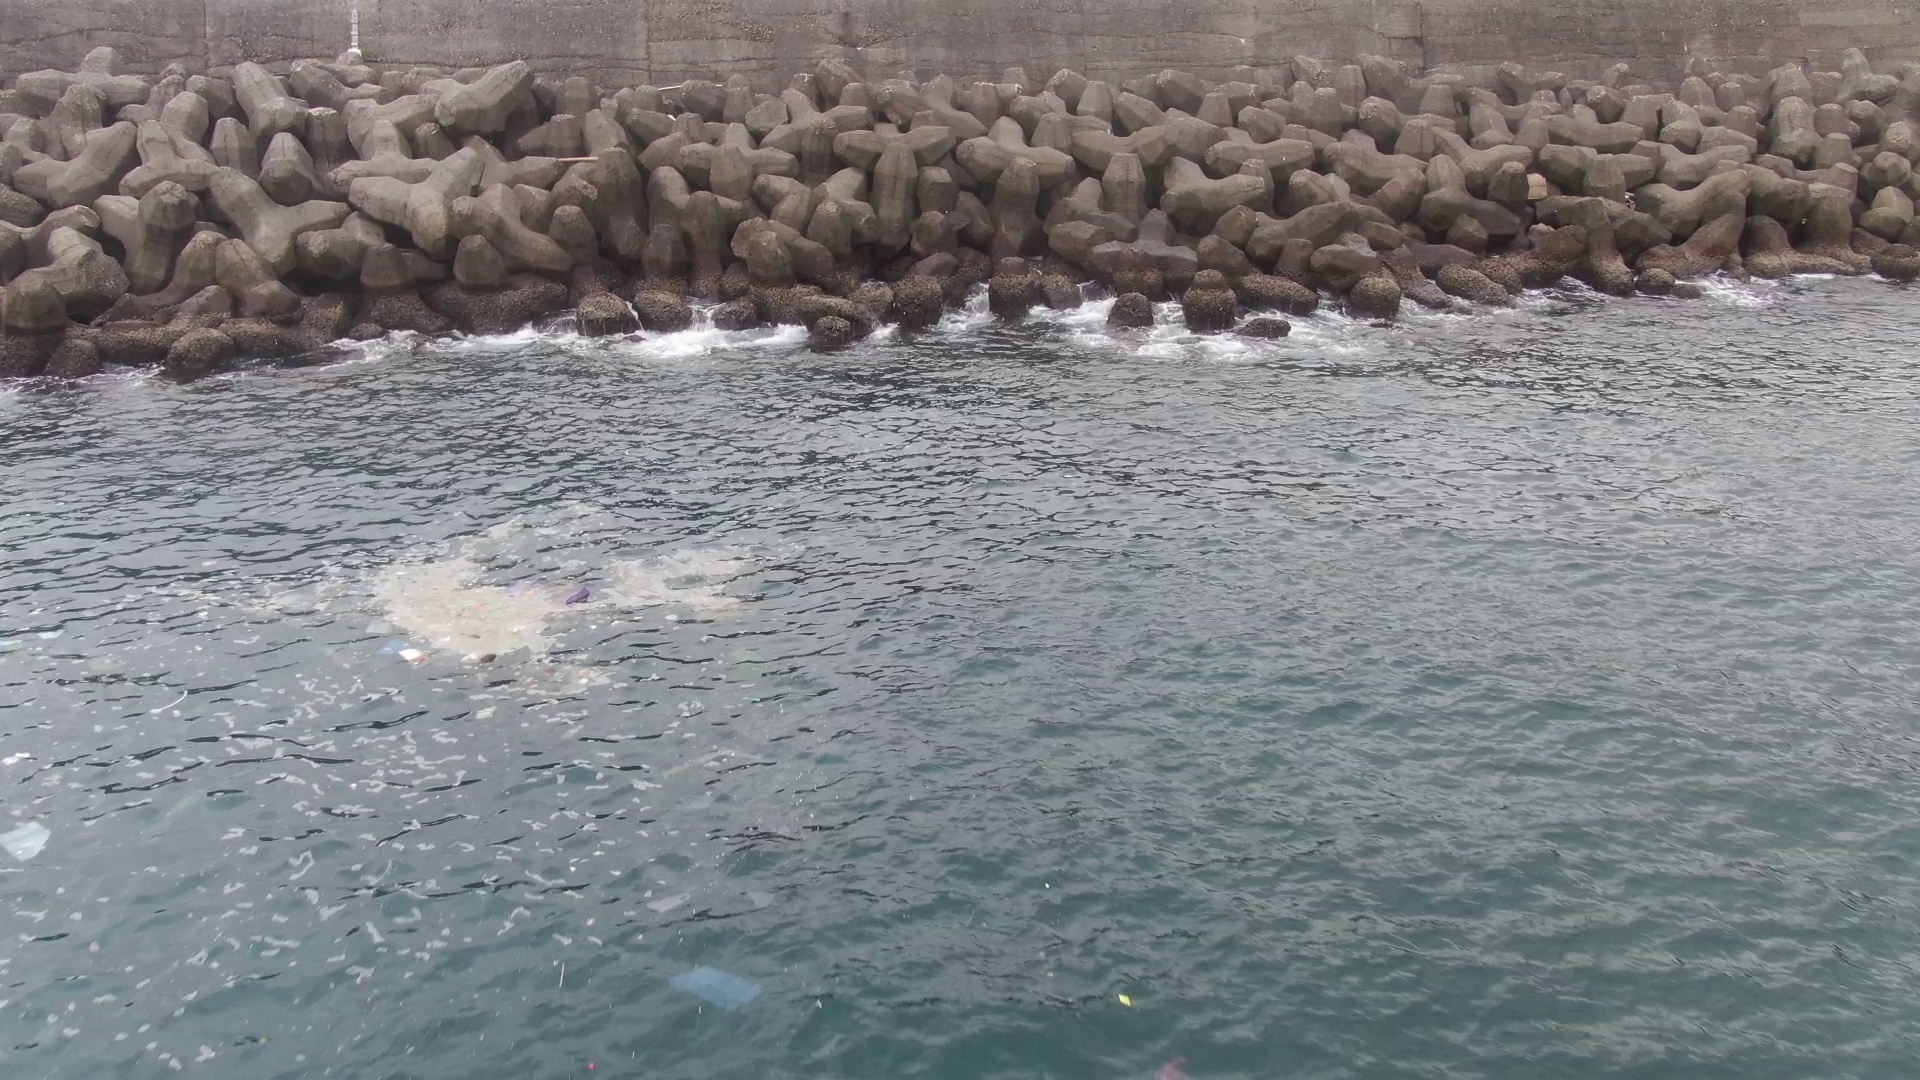garbage: (361, 541, 603, 673), (678, 963, 756, 1013), (1, 815, 47, 861), (1150, 1056, 1196, 1080), (1120, 990, 1134, 1013)
